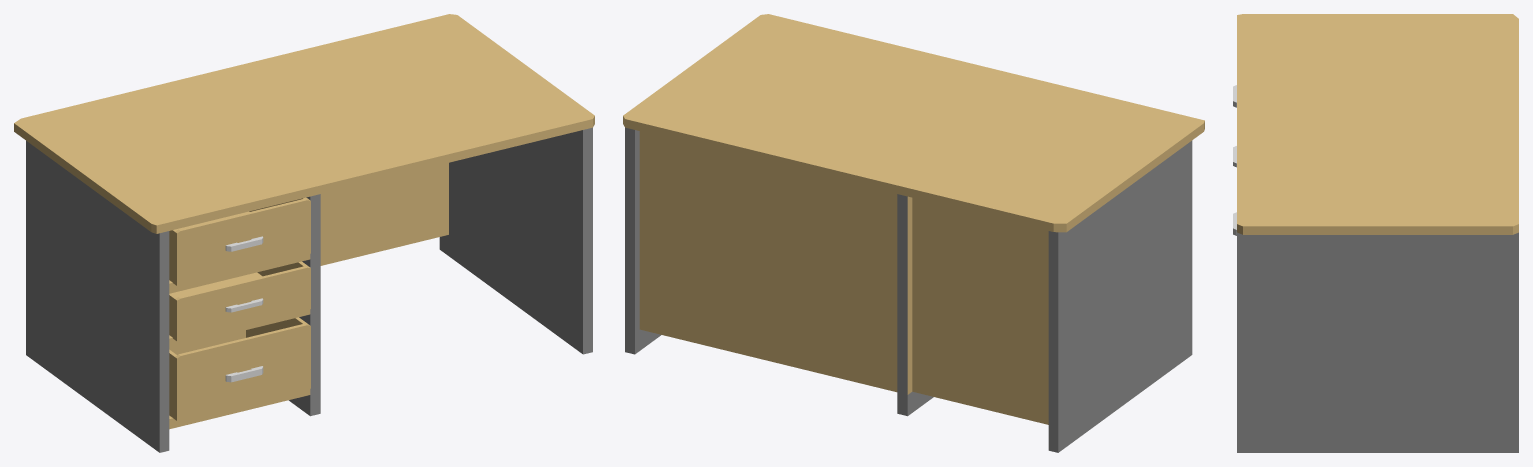
Rendered from Meja_Ruanganketua.fbx.
3 renders of one model, left to right at view 1: azimuth 30°, elevation 25°; view 2: azimuth 150°, elevation 25°; view 3: azimuth 270°, elevation 25°, orthographic.
Parts seen in each view (by area): view 1: Meja, Drawer3, Drawer1, Drawer2; view 2: Meja; view 3: Meja.
Part boxes in pixels (left/top/right/bottom): Meja: left=14, top=14, right=594, bottom=452; Drawer3: left=169, top=317, right=310, bottom=421; Drawer1: left=169, top=197, right=310, bottom=286; Drawer2: left=169, top=261, right=310, bottom=341; Meja: left=623, top=14, right=1204, bottom=452; Meja: left=1237, top=14, right=1518, bottom=452.
Bounding box in the file's own units: 223 × 112 × 127.
